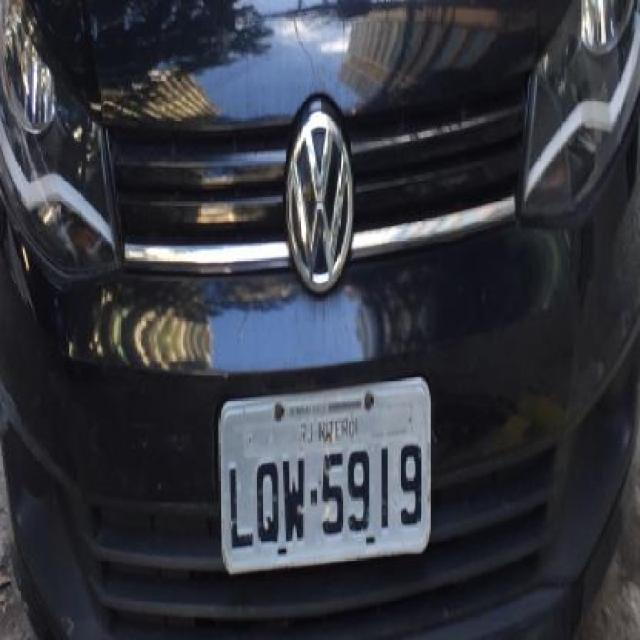old_plate: (214, 373, 438, 579)
